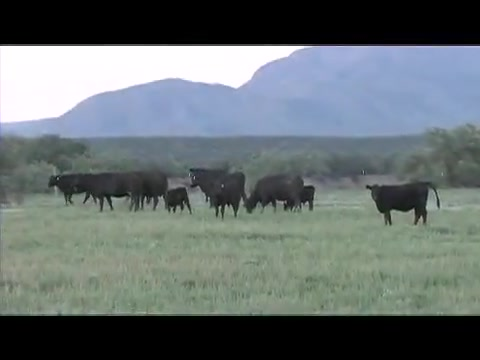cow: (365, 183, 443, 225), (81, 171, 145, 214), (245, 173, 309, 215), (212, 169, 254, 219), (124, 170, 171, 214), (49, 172, 94, 206), (191, 168, 229, 205), (286, 185, 322, 213), (165, 190, 194, 216)
